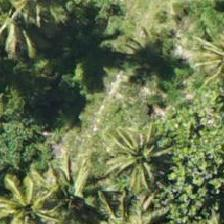coconut_tree: (105, 110, 195, 200), (0, 0, 69, 65), (0, 160, 52, 223)
